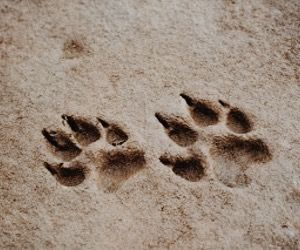chien: (153, 91, 275, 190), (39, 110, 145, 196)
